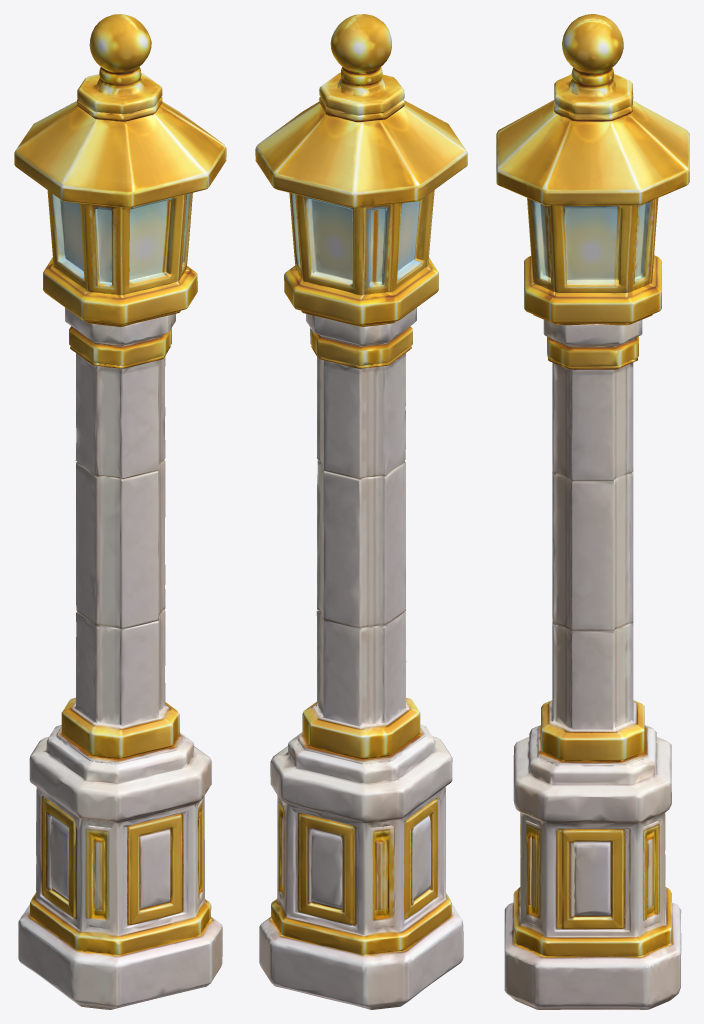
File: HaloPart_GateLantern_HD_src.glb
3 views of the same model, side by side, from view 1: azimuth 30°, elevation 25°; view 2: azimuth 150°, elevation 25°; view 3: azimuth 270°, elevation 25° (orthographic).
Parts seen in each view (by area): view 1: tripo_node_4f749187-45a4-4d0e-a730-bf604a105ea3; view 2: tripo_node_4f749187-45a4-4d0e-a730-bf604a105ea3; view 3: tripo_node_4f749187-45a4-4d0e-a730-bf604a105ea3.
Boxes of the visible parts, bbox=[...] form: tripo_node_4f749187-45a4-4d0e-a730-bf604a105ea3: bbox=[14, 14, 226, 1009]; tripo_node_4f749187-45a4-4d0e-a730-bf604a105ea3: bbox=[255, 14, 467, 1009]; tripo_node_4f749187-45a4-4d0e-a730-bf604a105ea3: bbox=[496, 14, 689, 1009].
Size of the model in its own units: 0.1771 by 0.9767 by 0.1785.
1 material, 1 textured.
